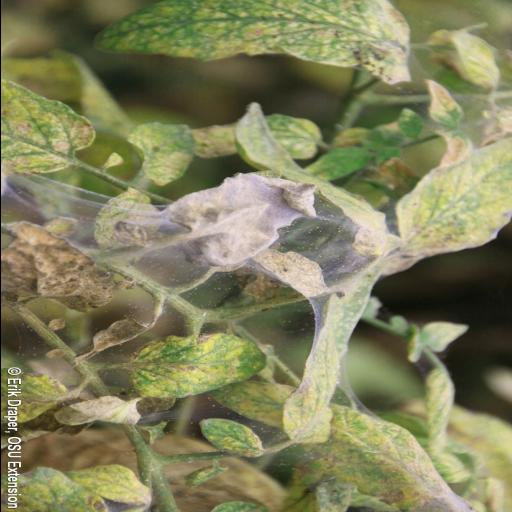Spider Mites: (89, 0, 411, 85), (396, 137, 512, 257), (278, 292, 346, 444), (0, 74, 98, 174), (132, 334, 268, 400), (126, 121, 195, 187), (65, 462, 149, 505), (198, 419, 263, 457)
